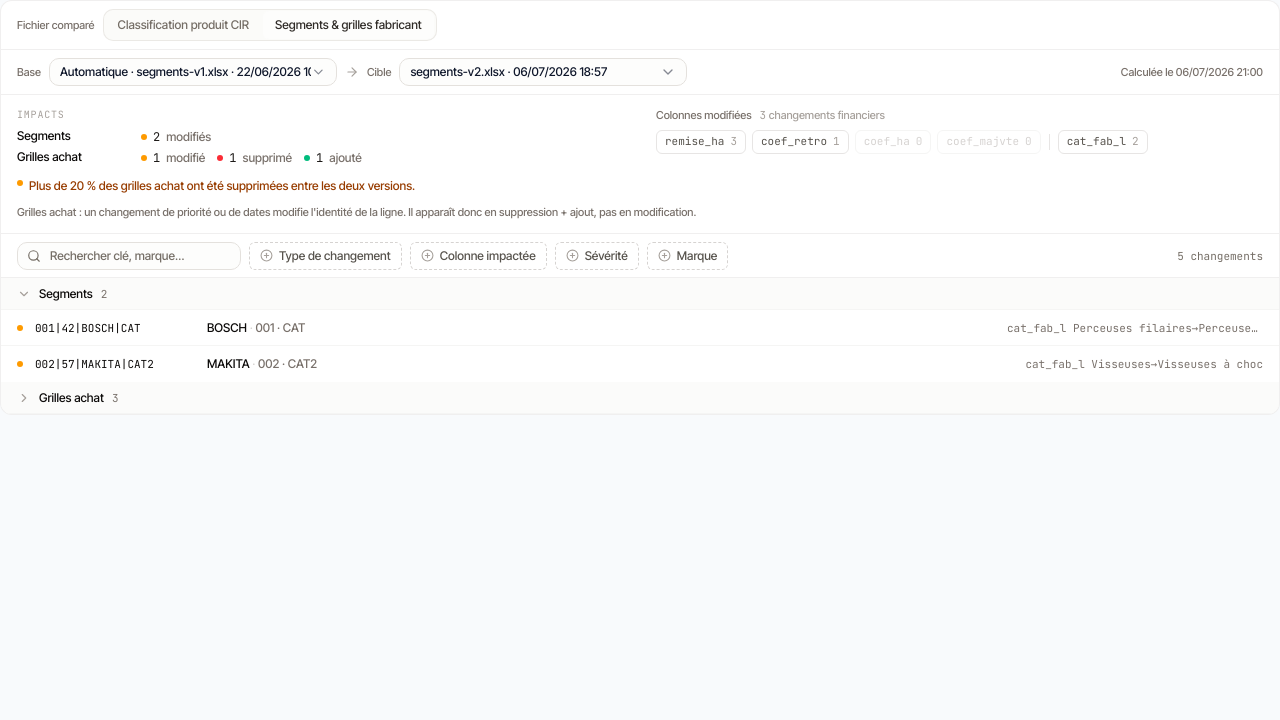
ChangesTriage › affiche la note d identité D3 dans le dialog d une grille supprimée
Click the button "Grilles achat 3" at (71, 397), box [1, 382, 1279, 414]
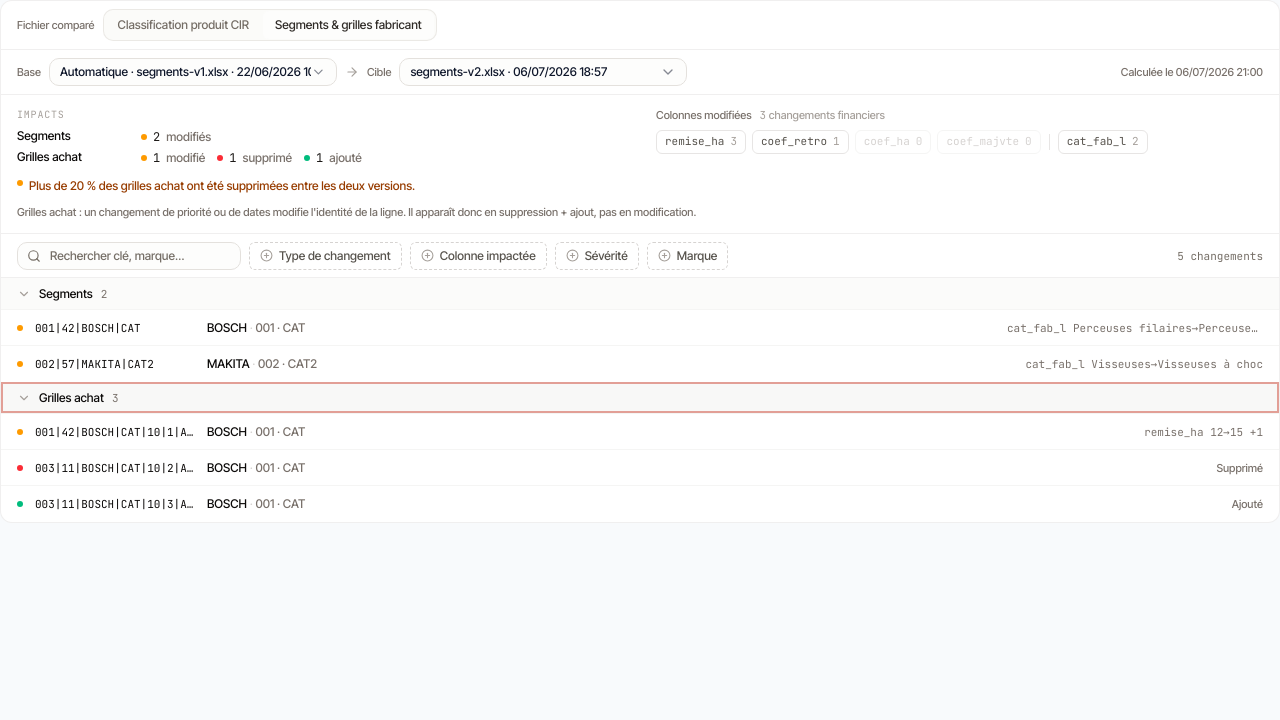
Click the button with aria-label "voir le détail du changement (supprimé)" at (154, 468), box [1, 450, 1279, 486]
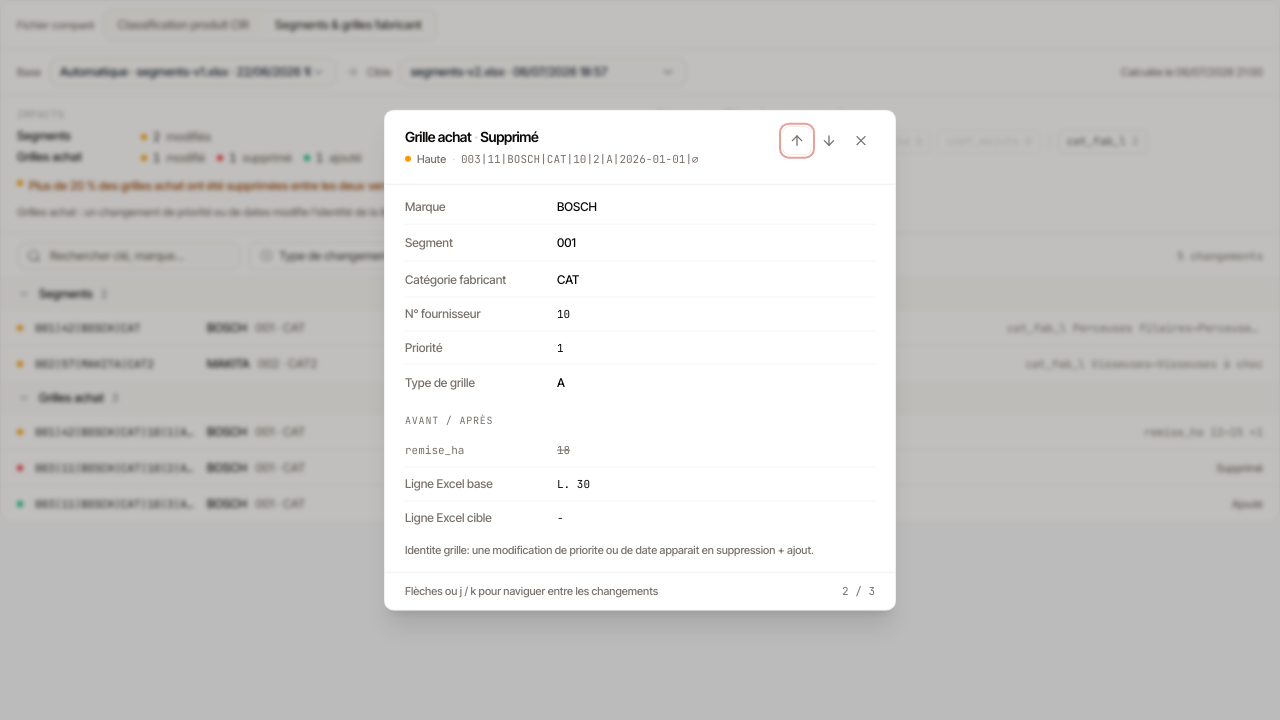
expect the text "suppression + ajout" is shown: met, box [405, 543, 814, 557]
